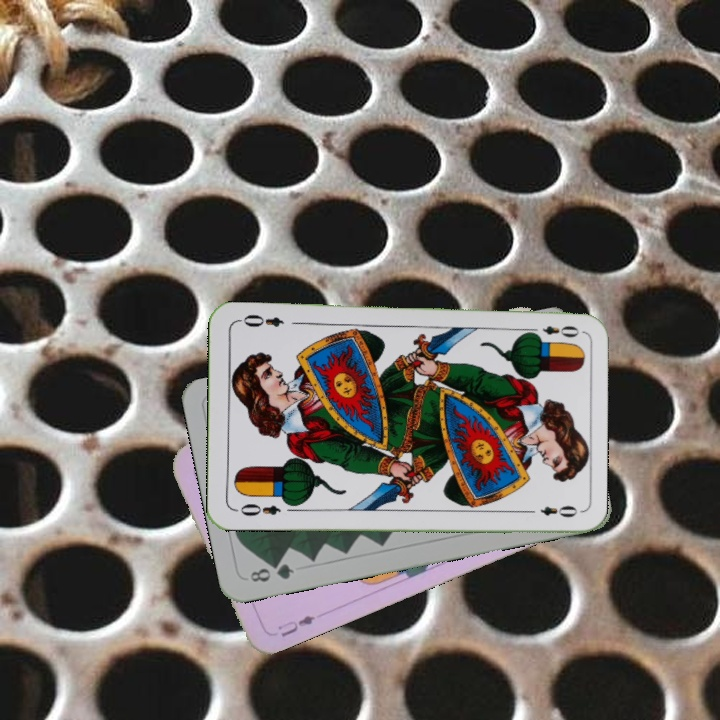EO: (523, 321, 581, 339), (237, 500, 284, 519)
EU: (274, 611, 318, 640)
G8: (246, 559, 297, 585)
